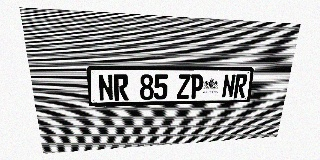5: (154, 74, 168, 100)
8: (140, 74, 154, 100)
N: (97, 74, 114, 101), (221, 74, 236, 98)
P: (190, 74, 204, 99)
R: (113, 74, 129, 101), (233, 74, 248, 98)
Z: (177, 74, 191, 99)
